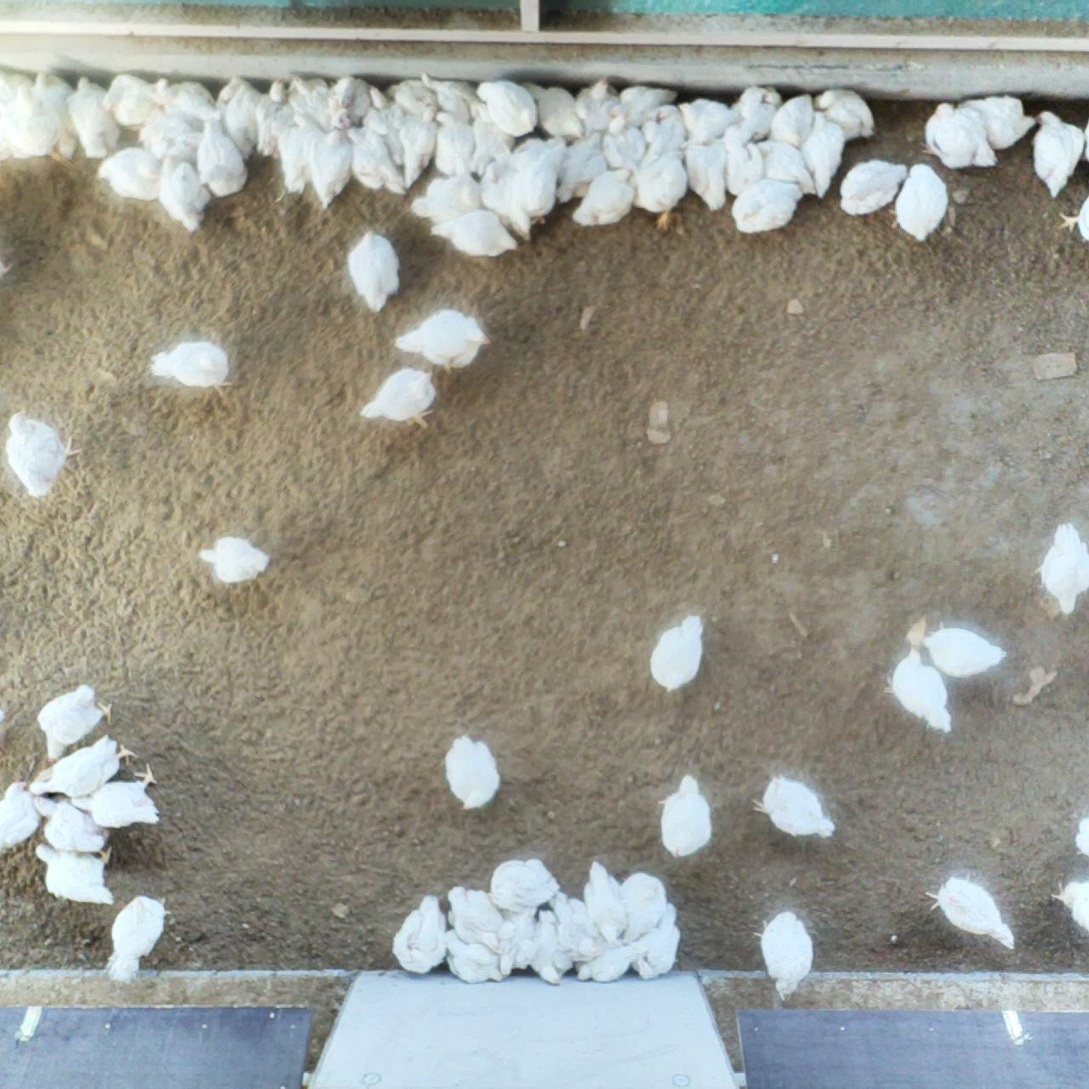chicken: (921, 875, 1019, 948), (5, 409, 81, 497), (29, 734, 135, 797), (34, 682, 114, 764), (101, 890, 172, 982), (393, 308, 489, 371), (885, 649, 954, 733), (753, 771, 838, 839), (919, 100, 997, 173), (1033, 519, 1089, 617), (75, 765, 162, 828), (27, 792, 114, 855), (33, 839, 117, 904), (755, 909, 815, 999), (149, 337, 235, 398), (7, 82, 69, 166), (358, 365, 440, 428), (343, 227, 403, 312), (953, 89, 1036, 150), (891, 160, 950, 243), (390, 892, 449, 975), (920, 624, 1007, 679), (67, 76, 123, 161), (342, 126, 407, 199), (658, 775, 714, 858), (476, 160, 534, 240), (27, 71, 79, 159), (445, 733, 502, 811), (1032, 111, 1083, 198), (647, 615, 705, 691), (156, 154, 211, 233), (195, 118, 249, 198), (487, 856, 560, 915), (550, 887, 605, 965), (633, 901, 687, 980), (512, 136, 564, 218), (430, 211, 520, 258), (523, 78, 586, 145), (472, 75, 538, 138), (834, 160, 908, 216), (630, 156, 688, 227), (571, 169, 638, 230), (578, 858, 626, 940), (551, 131, 604, 205), (798, 111, 843, 198), (435, 927, 502, 985), (732, 178, 801, 234), (525, 907, 574, 985), (199, 535, 273, 586), (157, 76, 224, 132), (91, 147, 159, 202), (309, 124, 355, 205), (409, 174, 482, 225), (218, 76, 261, 162), (101, 74, 161, 135), (722, 84, 784, 143), (360, 85, 407, 162), (468, 102, 518, 174), (624, 866, 674, 938), (278, 114, 321, 196), (139, 106, 203, 161), (445, 885, 500, 949), (681, 135, 729, 207), (401, 96, 437, 188), (573, 939, 647, 983), (761, 91, 818, 148), (814, 91, 877, 141), (255, 79, 292, 164), (754, 140, 814, 192), (643, 103, 685, 176), (0, 777, 42, 849), (496, 905, 539, 975), (419, 72, 477, 122), (430, 110, 473, 176), (288, 76, 339, 131), (483, 135, 542, 182), (718, 129, 760, 194), (678, 97, 737, 143), (386, 71, 449, 114), (599, 114, 644, 174), (611, 86, 677, 124), (328, 75, 374, 127), (570, 78, 611, 133), (1054, 877, 1089, 929), (0, 65, 36, 112), (1061, 193, 1089, 244), (1072, 814, 1089, 859)
